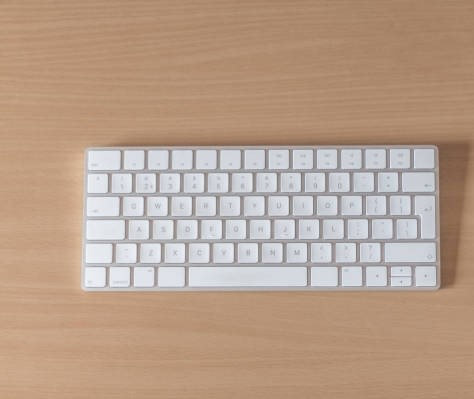keyboard: (85, 146, 439, 291)
